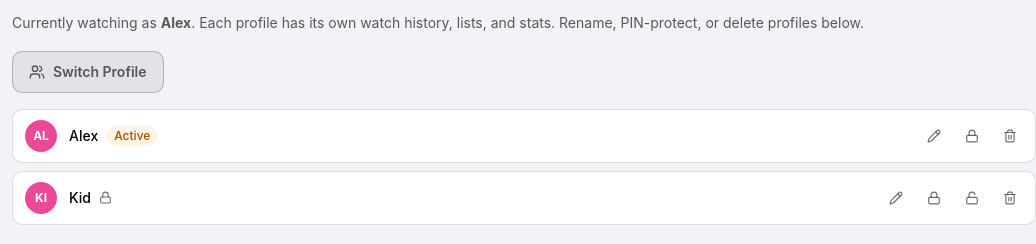
Test case: ProfileSettings renaming › renames the profile and updates the one in use
The image size is (1036, 244).
Click the button named "Rename Alex" at coordinates (934, 136), box [921,123,947,149]
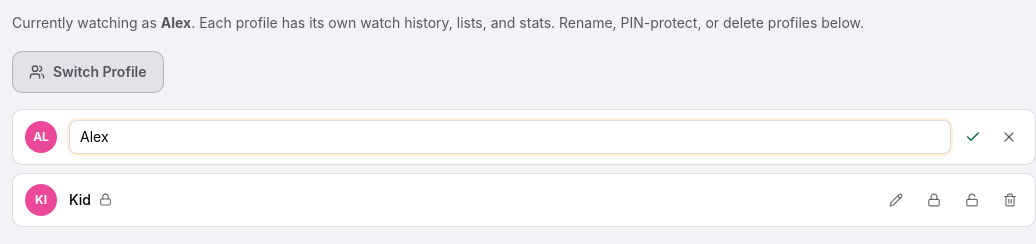
Type "andra" into the field named "Rename Alex" at coordinates (510, 137), box [69,120,951,154]
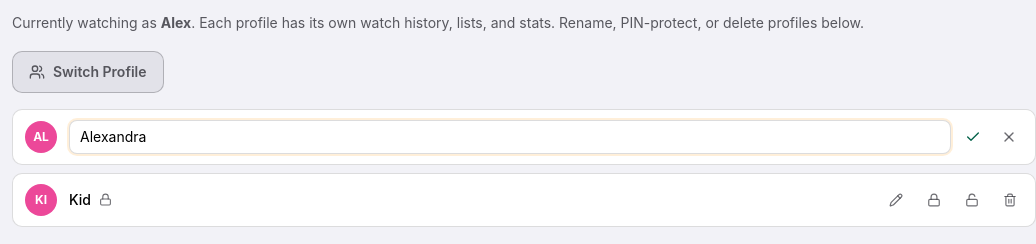
Click the button named "Save name" at coordinates (973, 137), box [959,123,987,151]
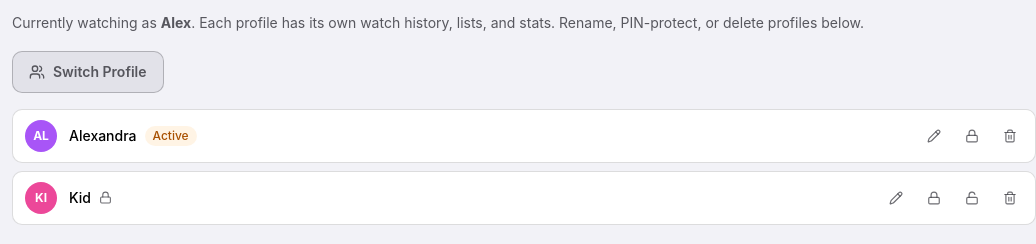
Check: the text "Alexandra" is shown, box [69,126,136,146]
